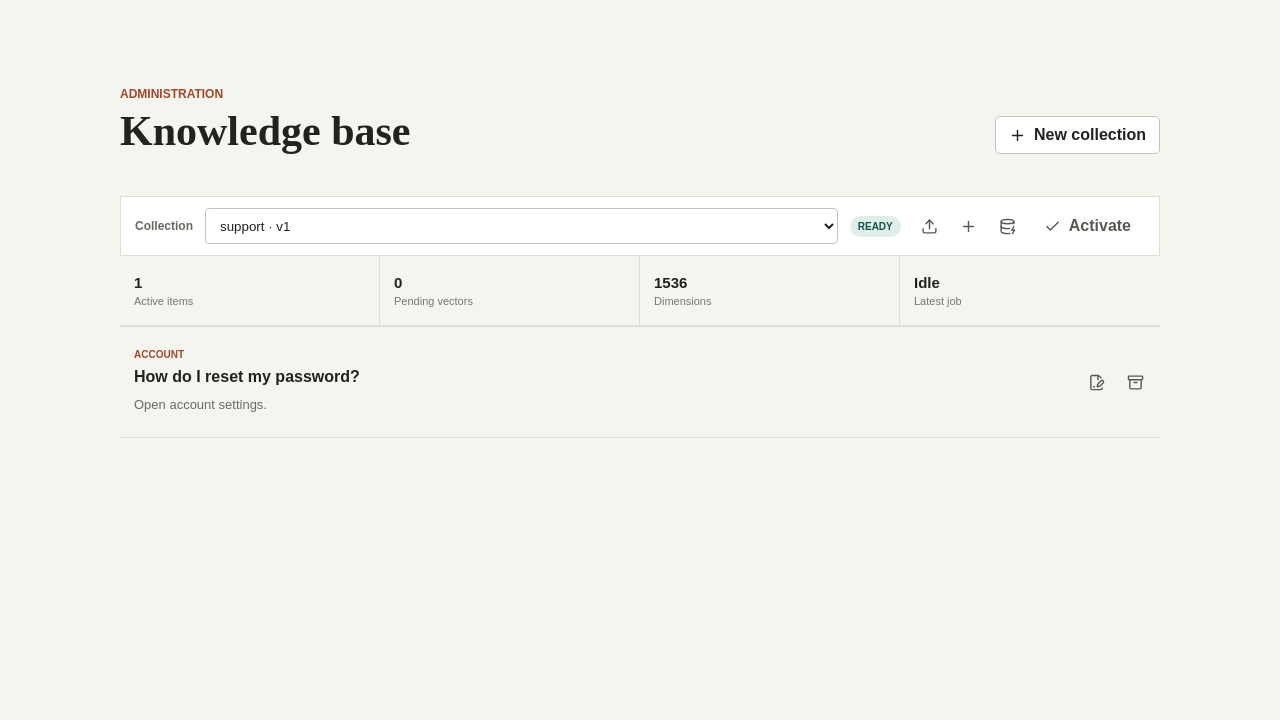
Test: KnowledgeView › keeps the editor open and reports an optimistic update conflict
Click the button titled "Edit FAQ".
click(1096, 382)  # box [1079,365,1113,399]
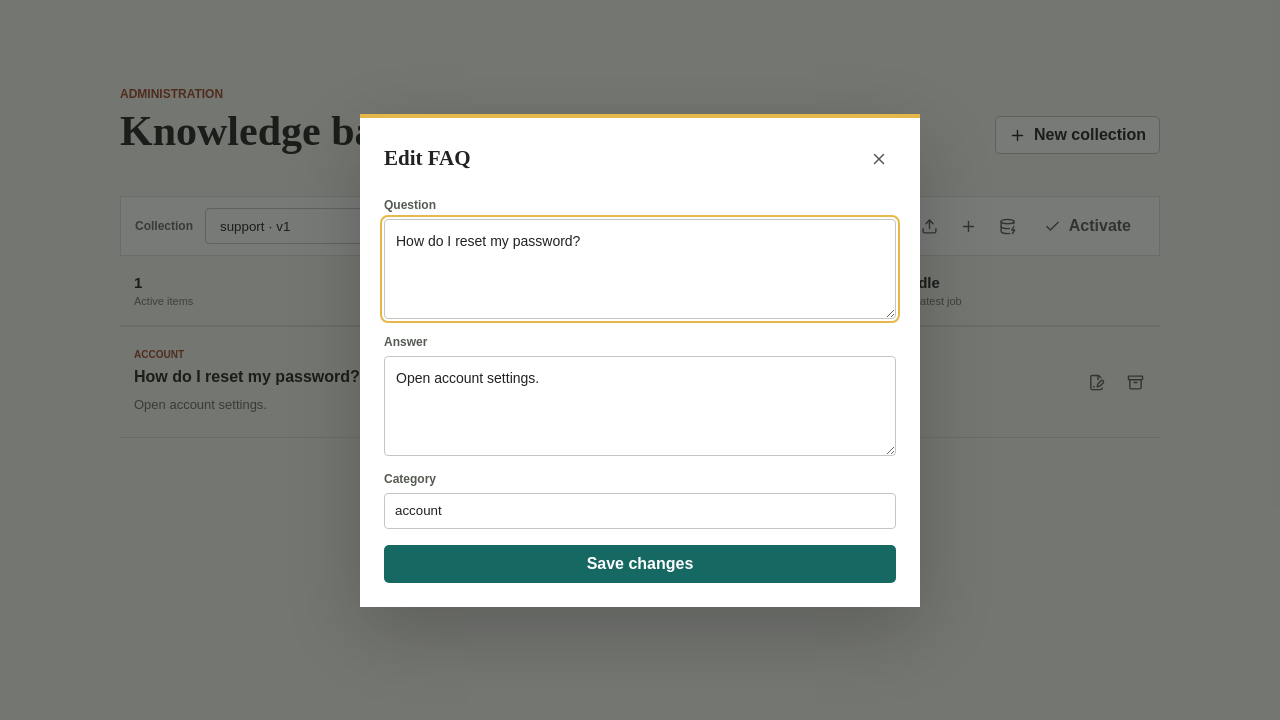
Replace the text in the text box labelled "Question" with "Updated question" at [640, 268], box [384,218,896,318]
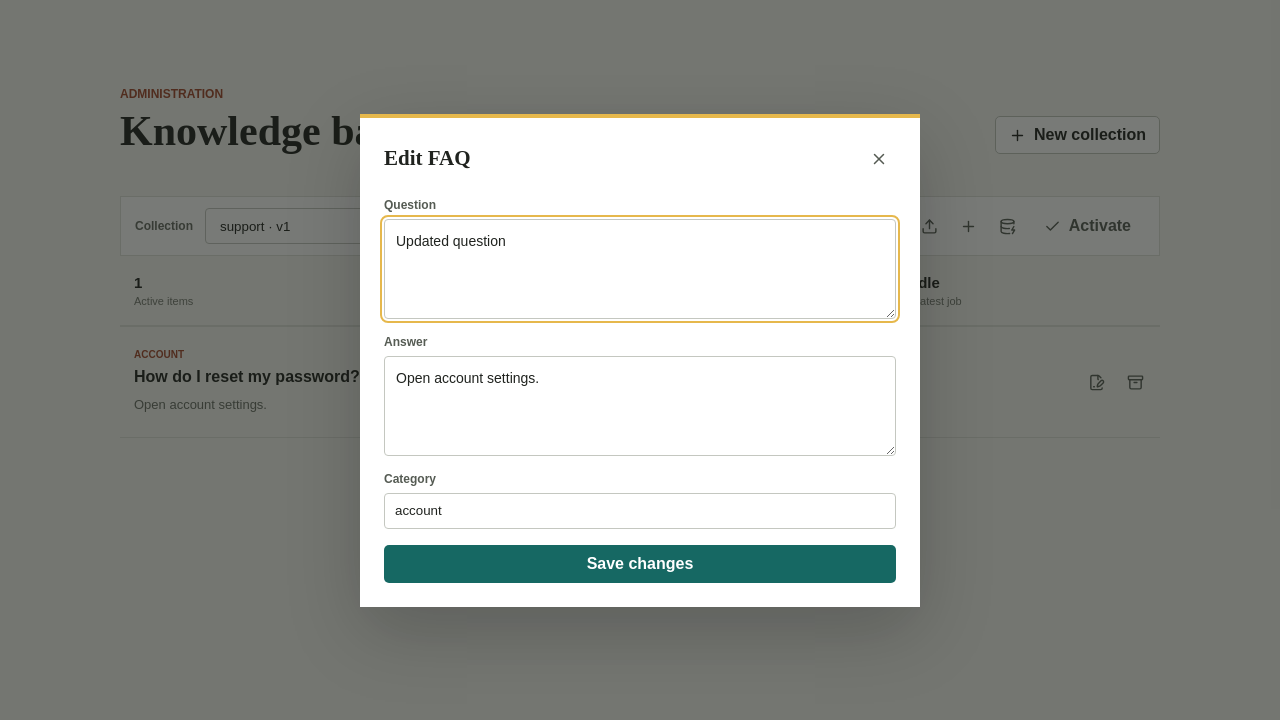
Click the button "Save changes".
click(640, 564)  # box [384,544,896,582]
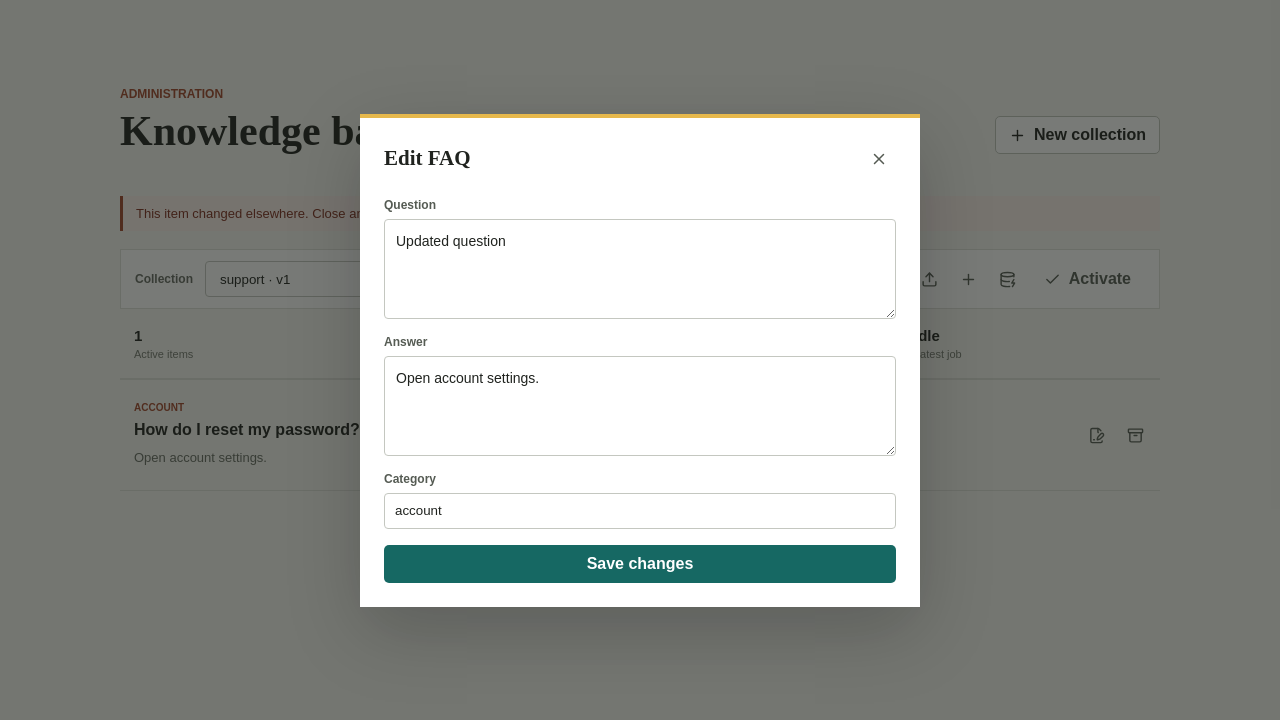
expect the dialog "Edit FAQ" is shown: met, box [360,114,920,606]
expect the message shows "changed elsewhere": met, box [136,206,516,221]
